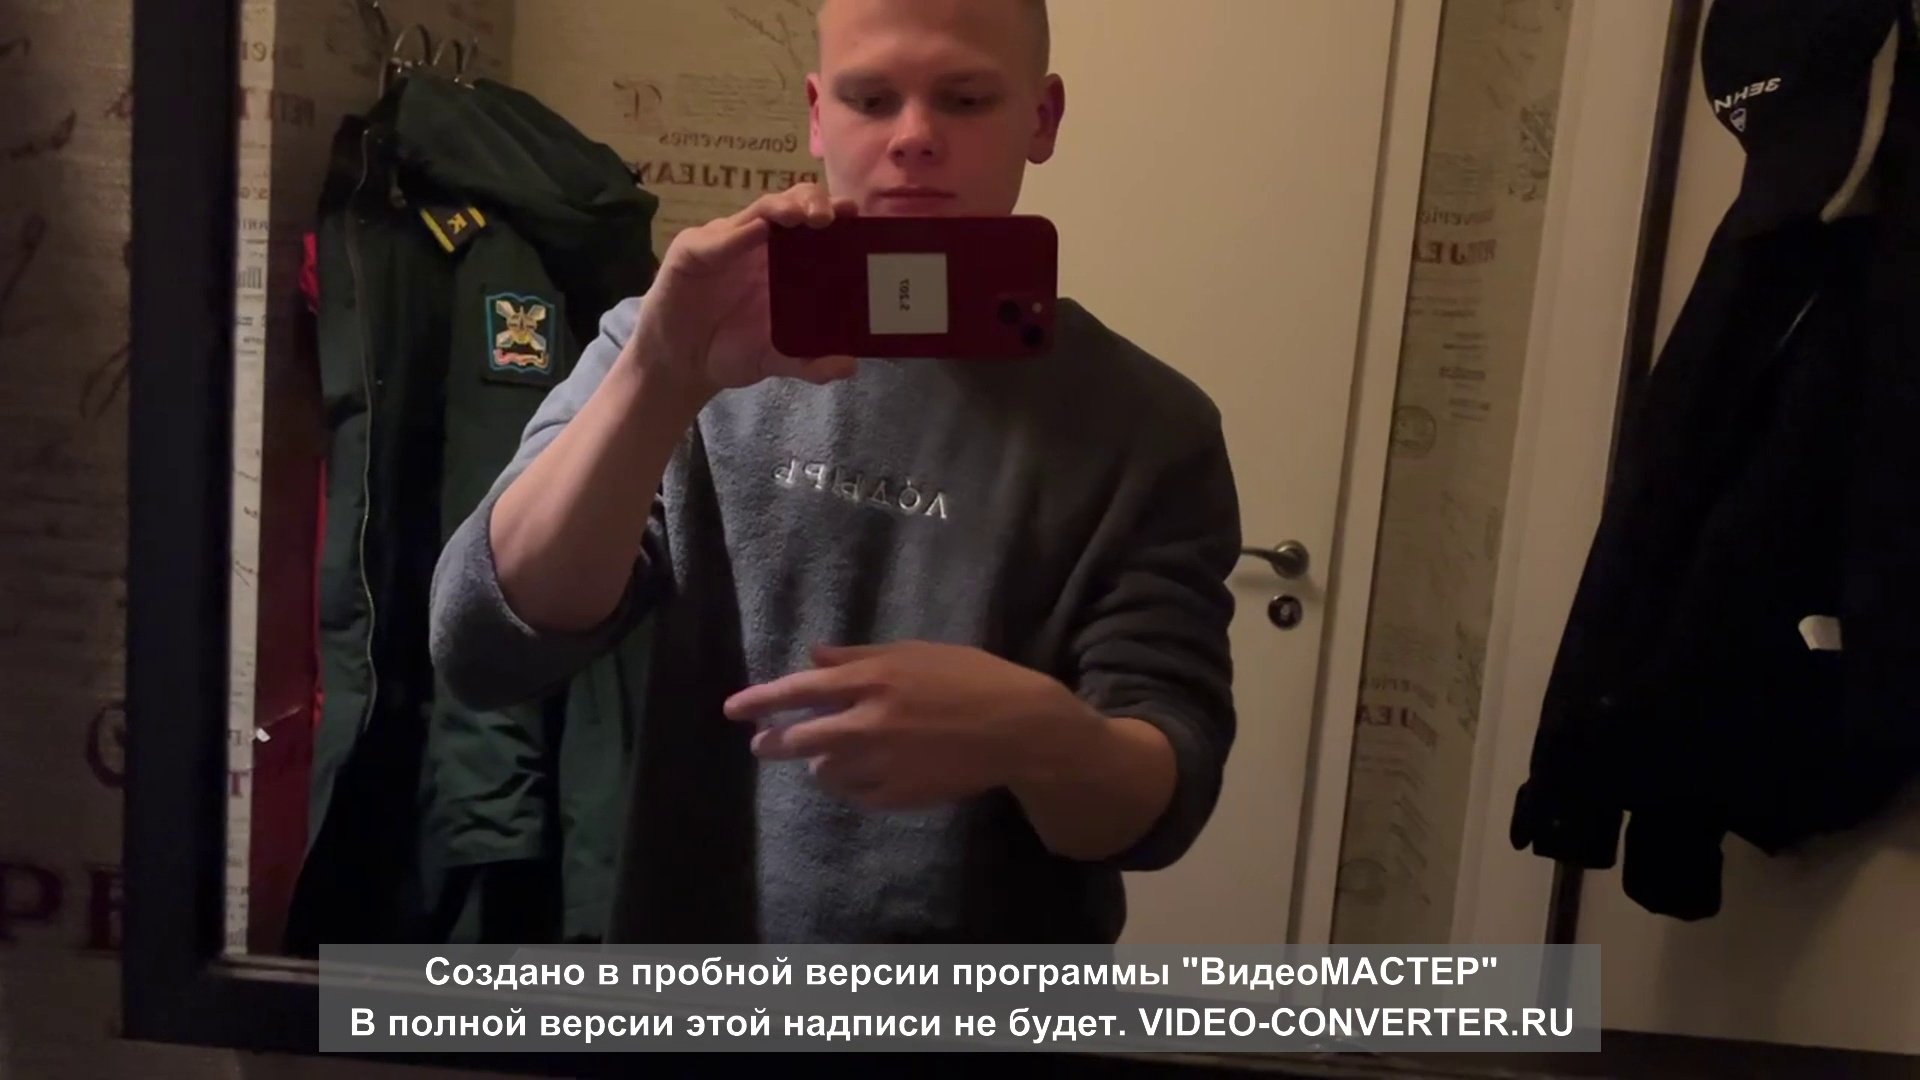Кисть: (727, 640, 1025, 806)
